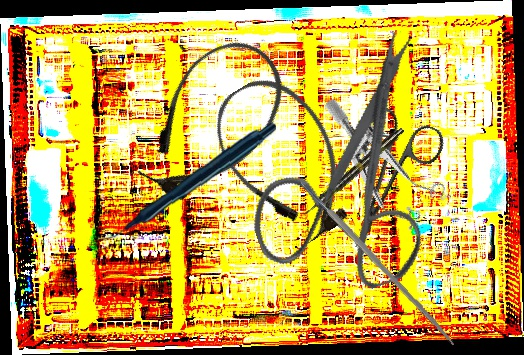Cannula: (118, 21, 306, 222), (196, 61, 372, 259)
Handpiece: (96, 115, 277, 248), (300, 125, 407, 219)
Iris Scissors: (206, 27, 488, 320), (317, 101, 449, 264)
Scalpel Handle: (298, 177, 458, 348)
Speculum: (293, 96, 461, 240)
